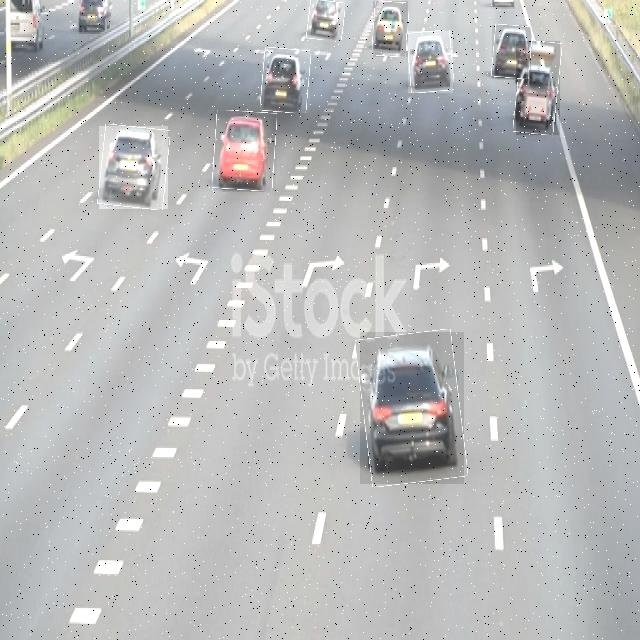Car: (360, 332, 464, 484), (99, 126, 168, 209), (214, 111, 276, 191), (261, 48, 310, 113), (408, 31, 453, 93), (492, 25, 531, 79), (373, 1, 408, 57), (307, 0, 344, 39)
Truck: (516, 41, 560, 135)
